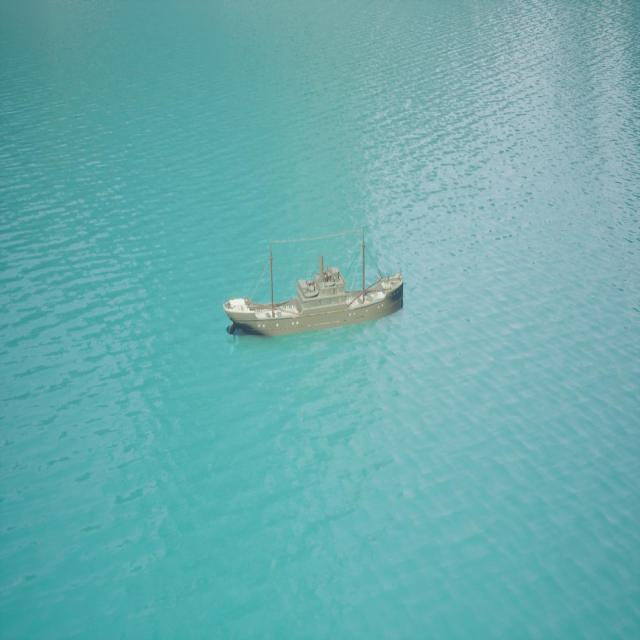fishing ship: (226, 233, 405, 344)
